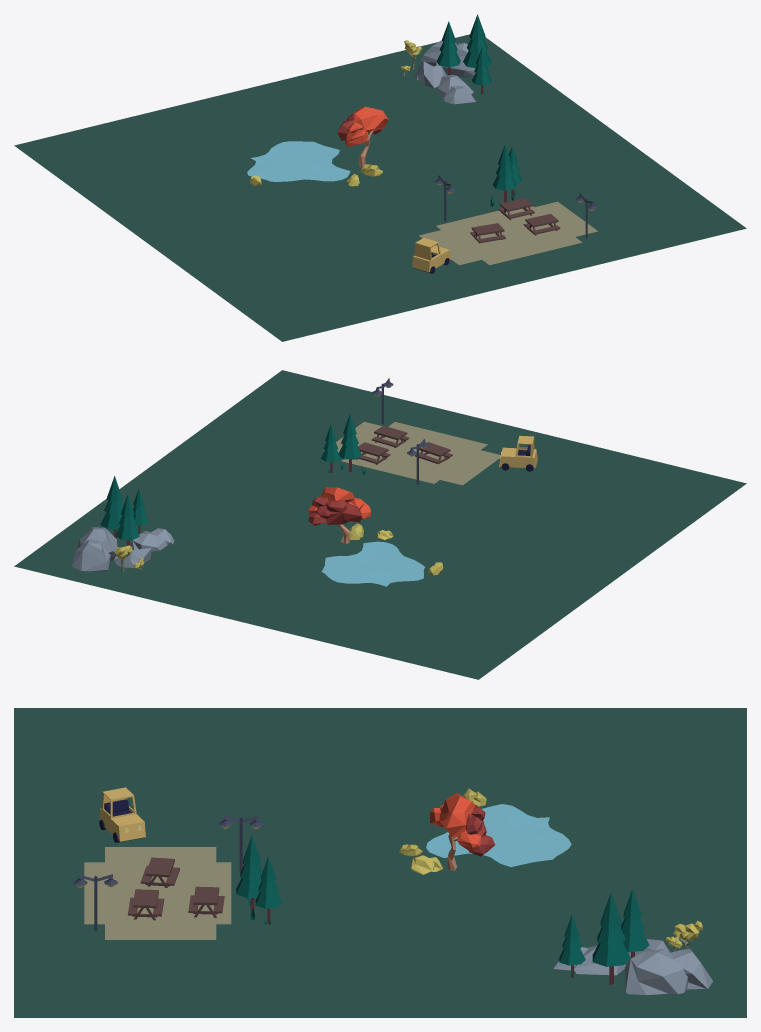
File: park_tile_test.fbx
The picture shows the model from 3 angles, top to bottom: view 1: azimuth 30°, elevation 25°; view 2: azimuth 150°, elevation 25°; view 3: azimuth 270°, elevation 25°; orthographic projection. The views are drawn at different scales.
Visible parts, largest first — view 1: yellow_car, Grid, trees in bg, trees in bg.006, trees in bg.005, Cone.001, Cone, trees in bg.007; view 2: yellow_car, Grid, trees in bg, trees in bg.005, Cone.001, trees in bg.006, Cone; view 3: yellow_car, Grid, trees in bg.005, trees in bg, Cone.001, Cone, Cone.002, trees in bg.006, trees in bg.001.
Part boxes in pixels (box(x1,y1,x2,y2)): yellow_car: box(14, 34, 746, 341); Grid: box(247, 141, 350, 181); trees in bg: box(337, 106, 388, 167); trees in bg.006: box(438, 74, 475, 104); trees in bg.005: box(420, 40, 475, 77); Cone.001: box(463, 14, 491, 68); Cone: box(436, 21, 460, 67); trees in bg.007: box(414, 61, 446, 88); yellow_car: box(14, 370, 746, 679); Grid: box(321, 541, 424, 586); trees in bg: box(308, 487, 371, 543); trees in bg.005: box(71, 527, 117, 571); Cone.001: box(100, 476, 123, 529); trees in bg.006: box(129, 528, 174, 551); Cone: box(115, 494, 139, 539); yellow_car: box(14, 708, 746, 1017); Grid: box(426, 804, 571, 866); trees in bg.005: box(625, 948, 712, 995); trees in bg: box(430, 793, 495, 871); Cone.001: box(592, 893, 630, 966); Cone: box(621, 889, 649, 952); Cone.002: box(559, 914, 585, 965); trees in bg.006: box(553, 945, 625, 975); trees in bg.001: box(666, 920, 702, 950).
Bounding box in the file's own units: 2000 × 430 × 2000.
